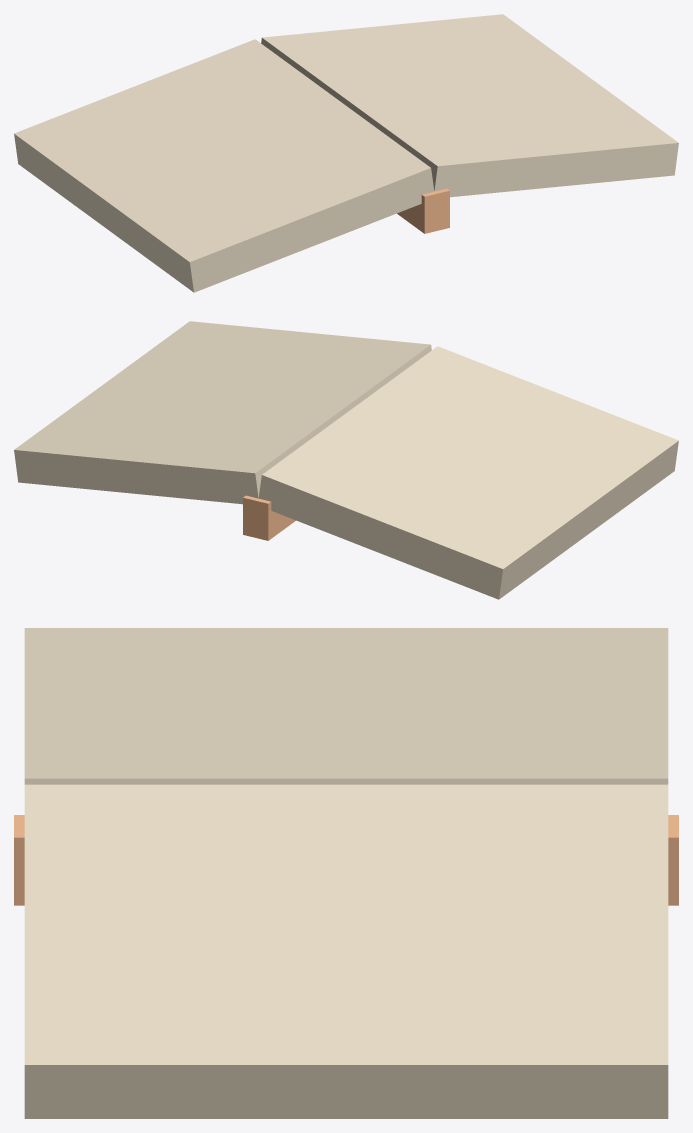
3 renders of one model, top to bottom at view 1: azimuth 30°, elevation 25°; view 2: azimuth 150°, elevation 25°; view 3: azimuth 270°, elevation 25°, orthographic. The views are drawn at different scales.
Visible parts, largest first — view 1: Open page, Open page.001, Spine; view 2: Open page, Open page.001, Spine; view 3: Open page.001, Open page, Spine.
Part boxes in pixels (x1,y1,x2,y2): Open page: [14, 39, 434, 292]; Open page.001: [261, 14, 678, 197]; Spine: [397, 188, 449, 233]; Open page: [258, 346, 678, 599]; Open page.001: [14, 321, 431, 504]; Spine: [243, 495, 295, 540]; Open page.001: [24, 784, 668, 1118]; Open page: [24, 628, 668, 784]; Spine: [14, 815, 678, 905].
Bounding box in the file's own units: 48.18 × 6.31 × 31.
